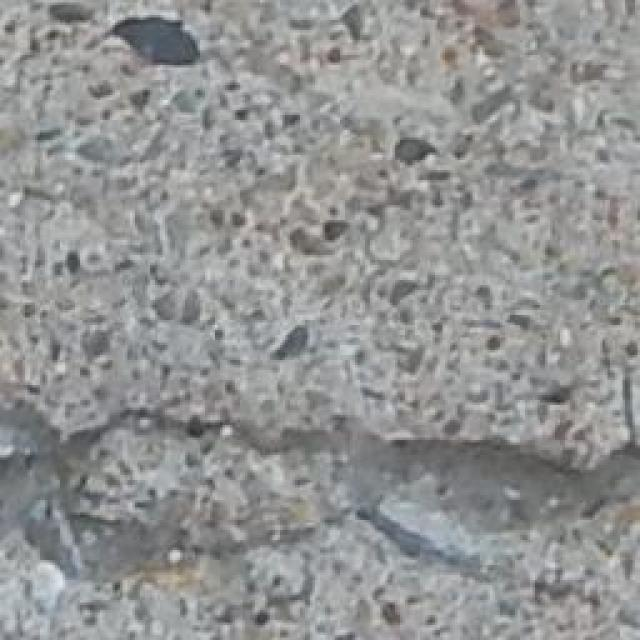concrete-crack: (0, 383, 639, 640)
